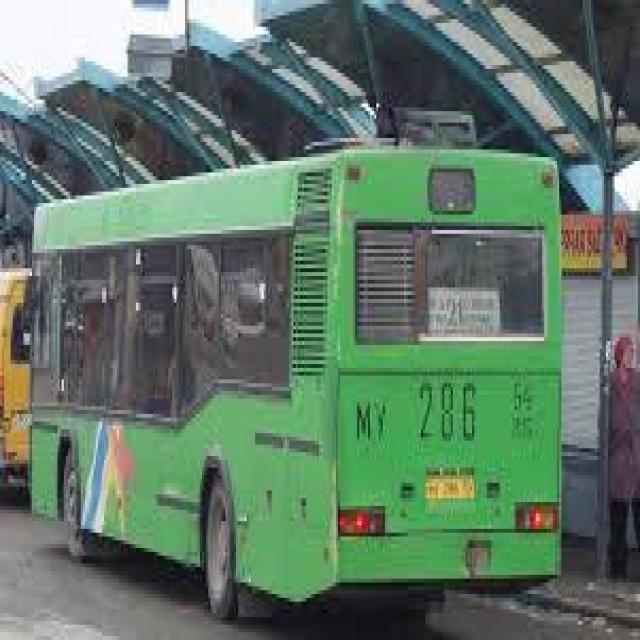Bus: (15, 103, 572, 632)
